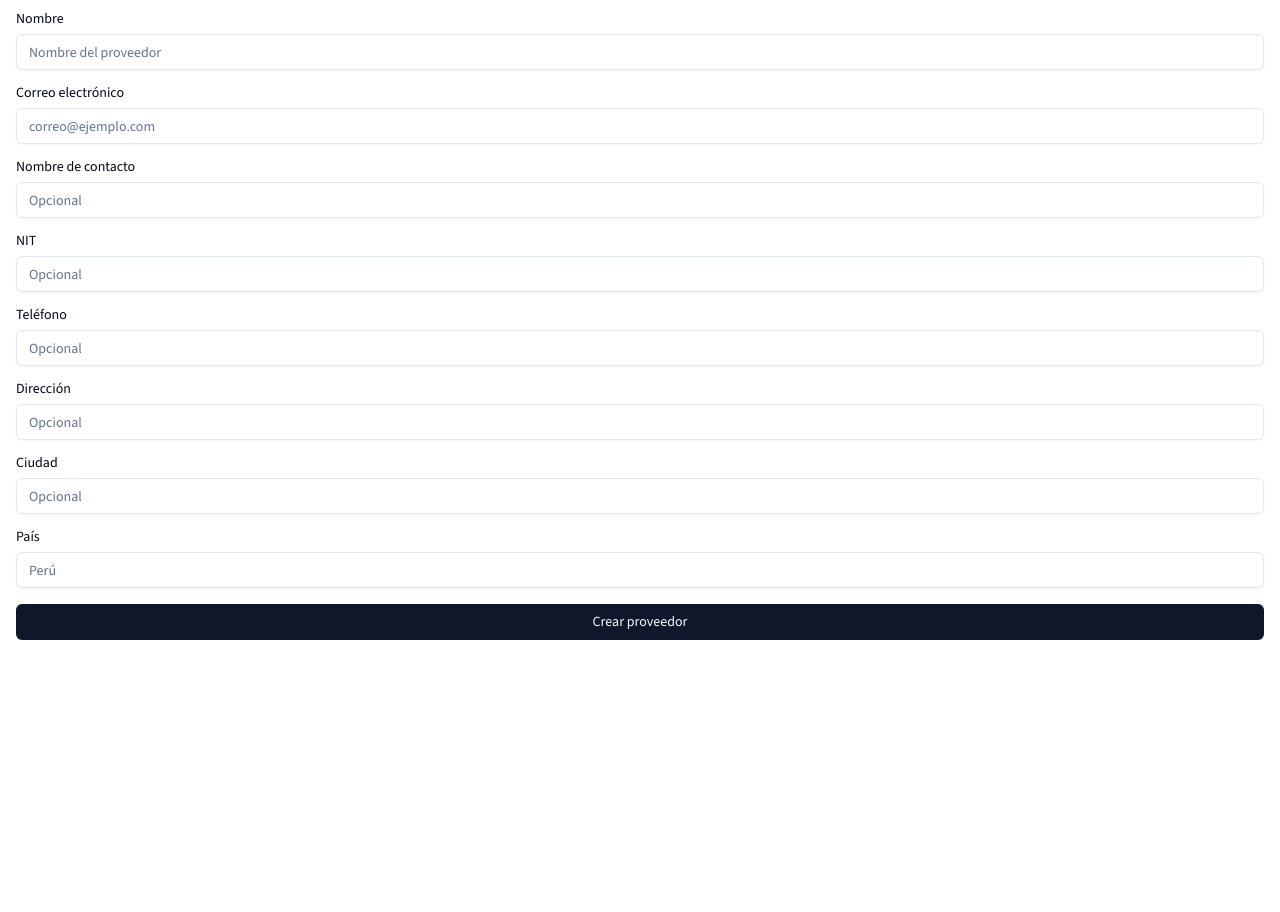
Test: SupplierForm — validation › shows error when name is empty on submit
Click the button "Crear proveedor": click(640, 622) [16,604,1264,640]
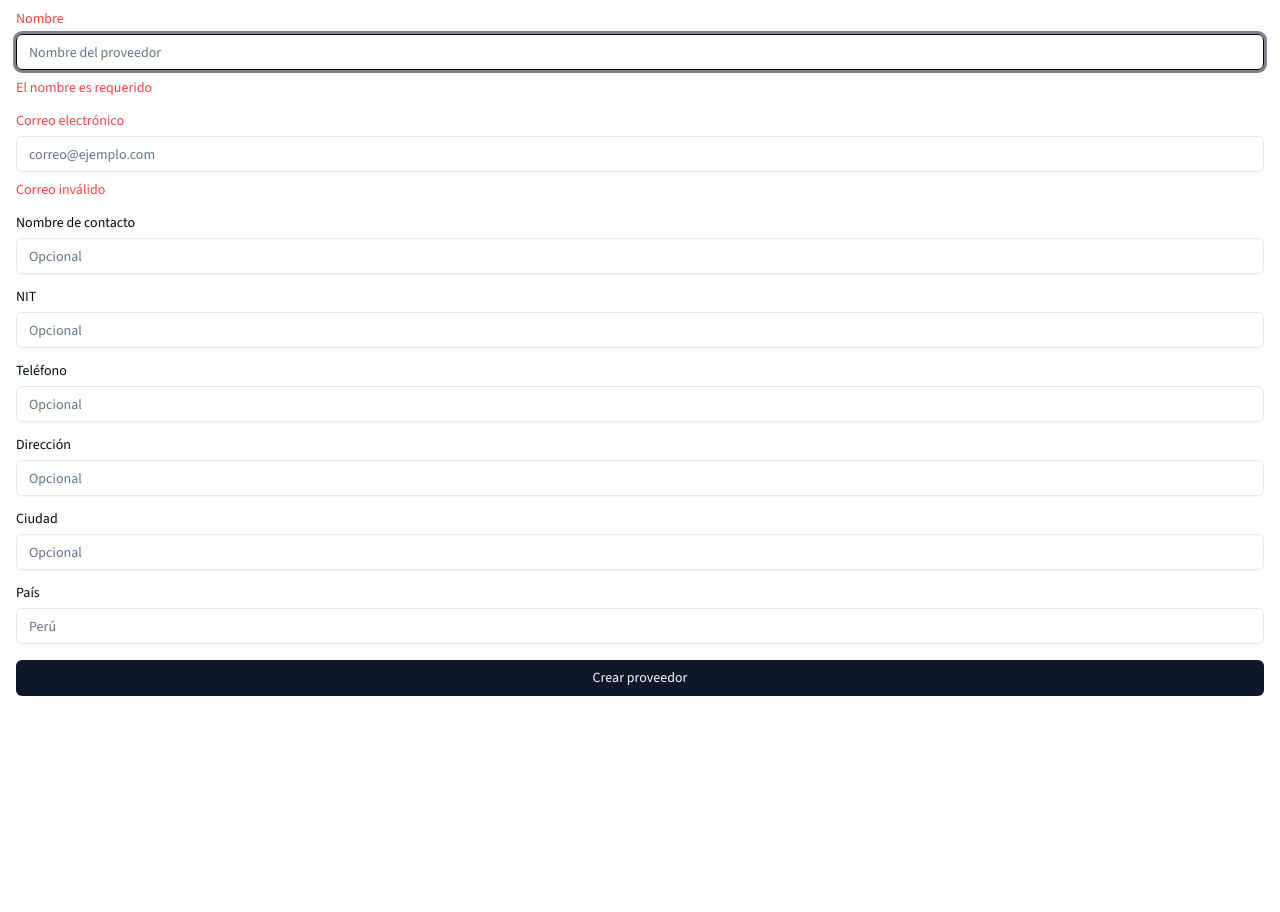
Expected: the text "El nombre es requerido" is shown, [16,78,152,97]
